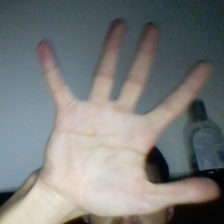left: (27, 7, 219, 217)
